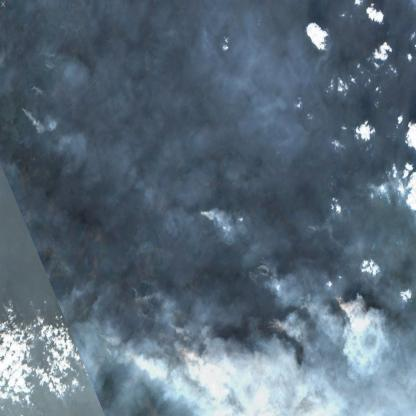fire: (74, 247, 350, 370)
